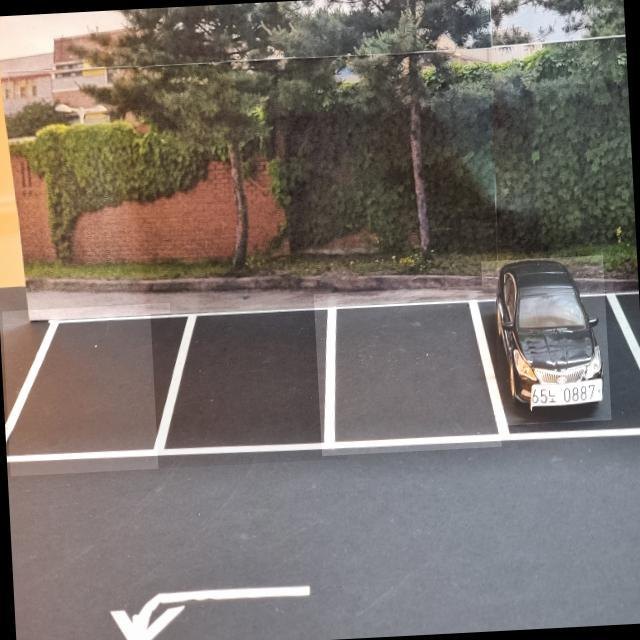empty: (150, 304, 348, 469), (314, 285, 502, 456), (2, 303, 179, 477)
occupied: (481, 255, 612, 426)
